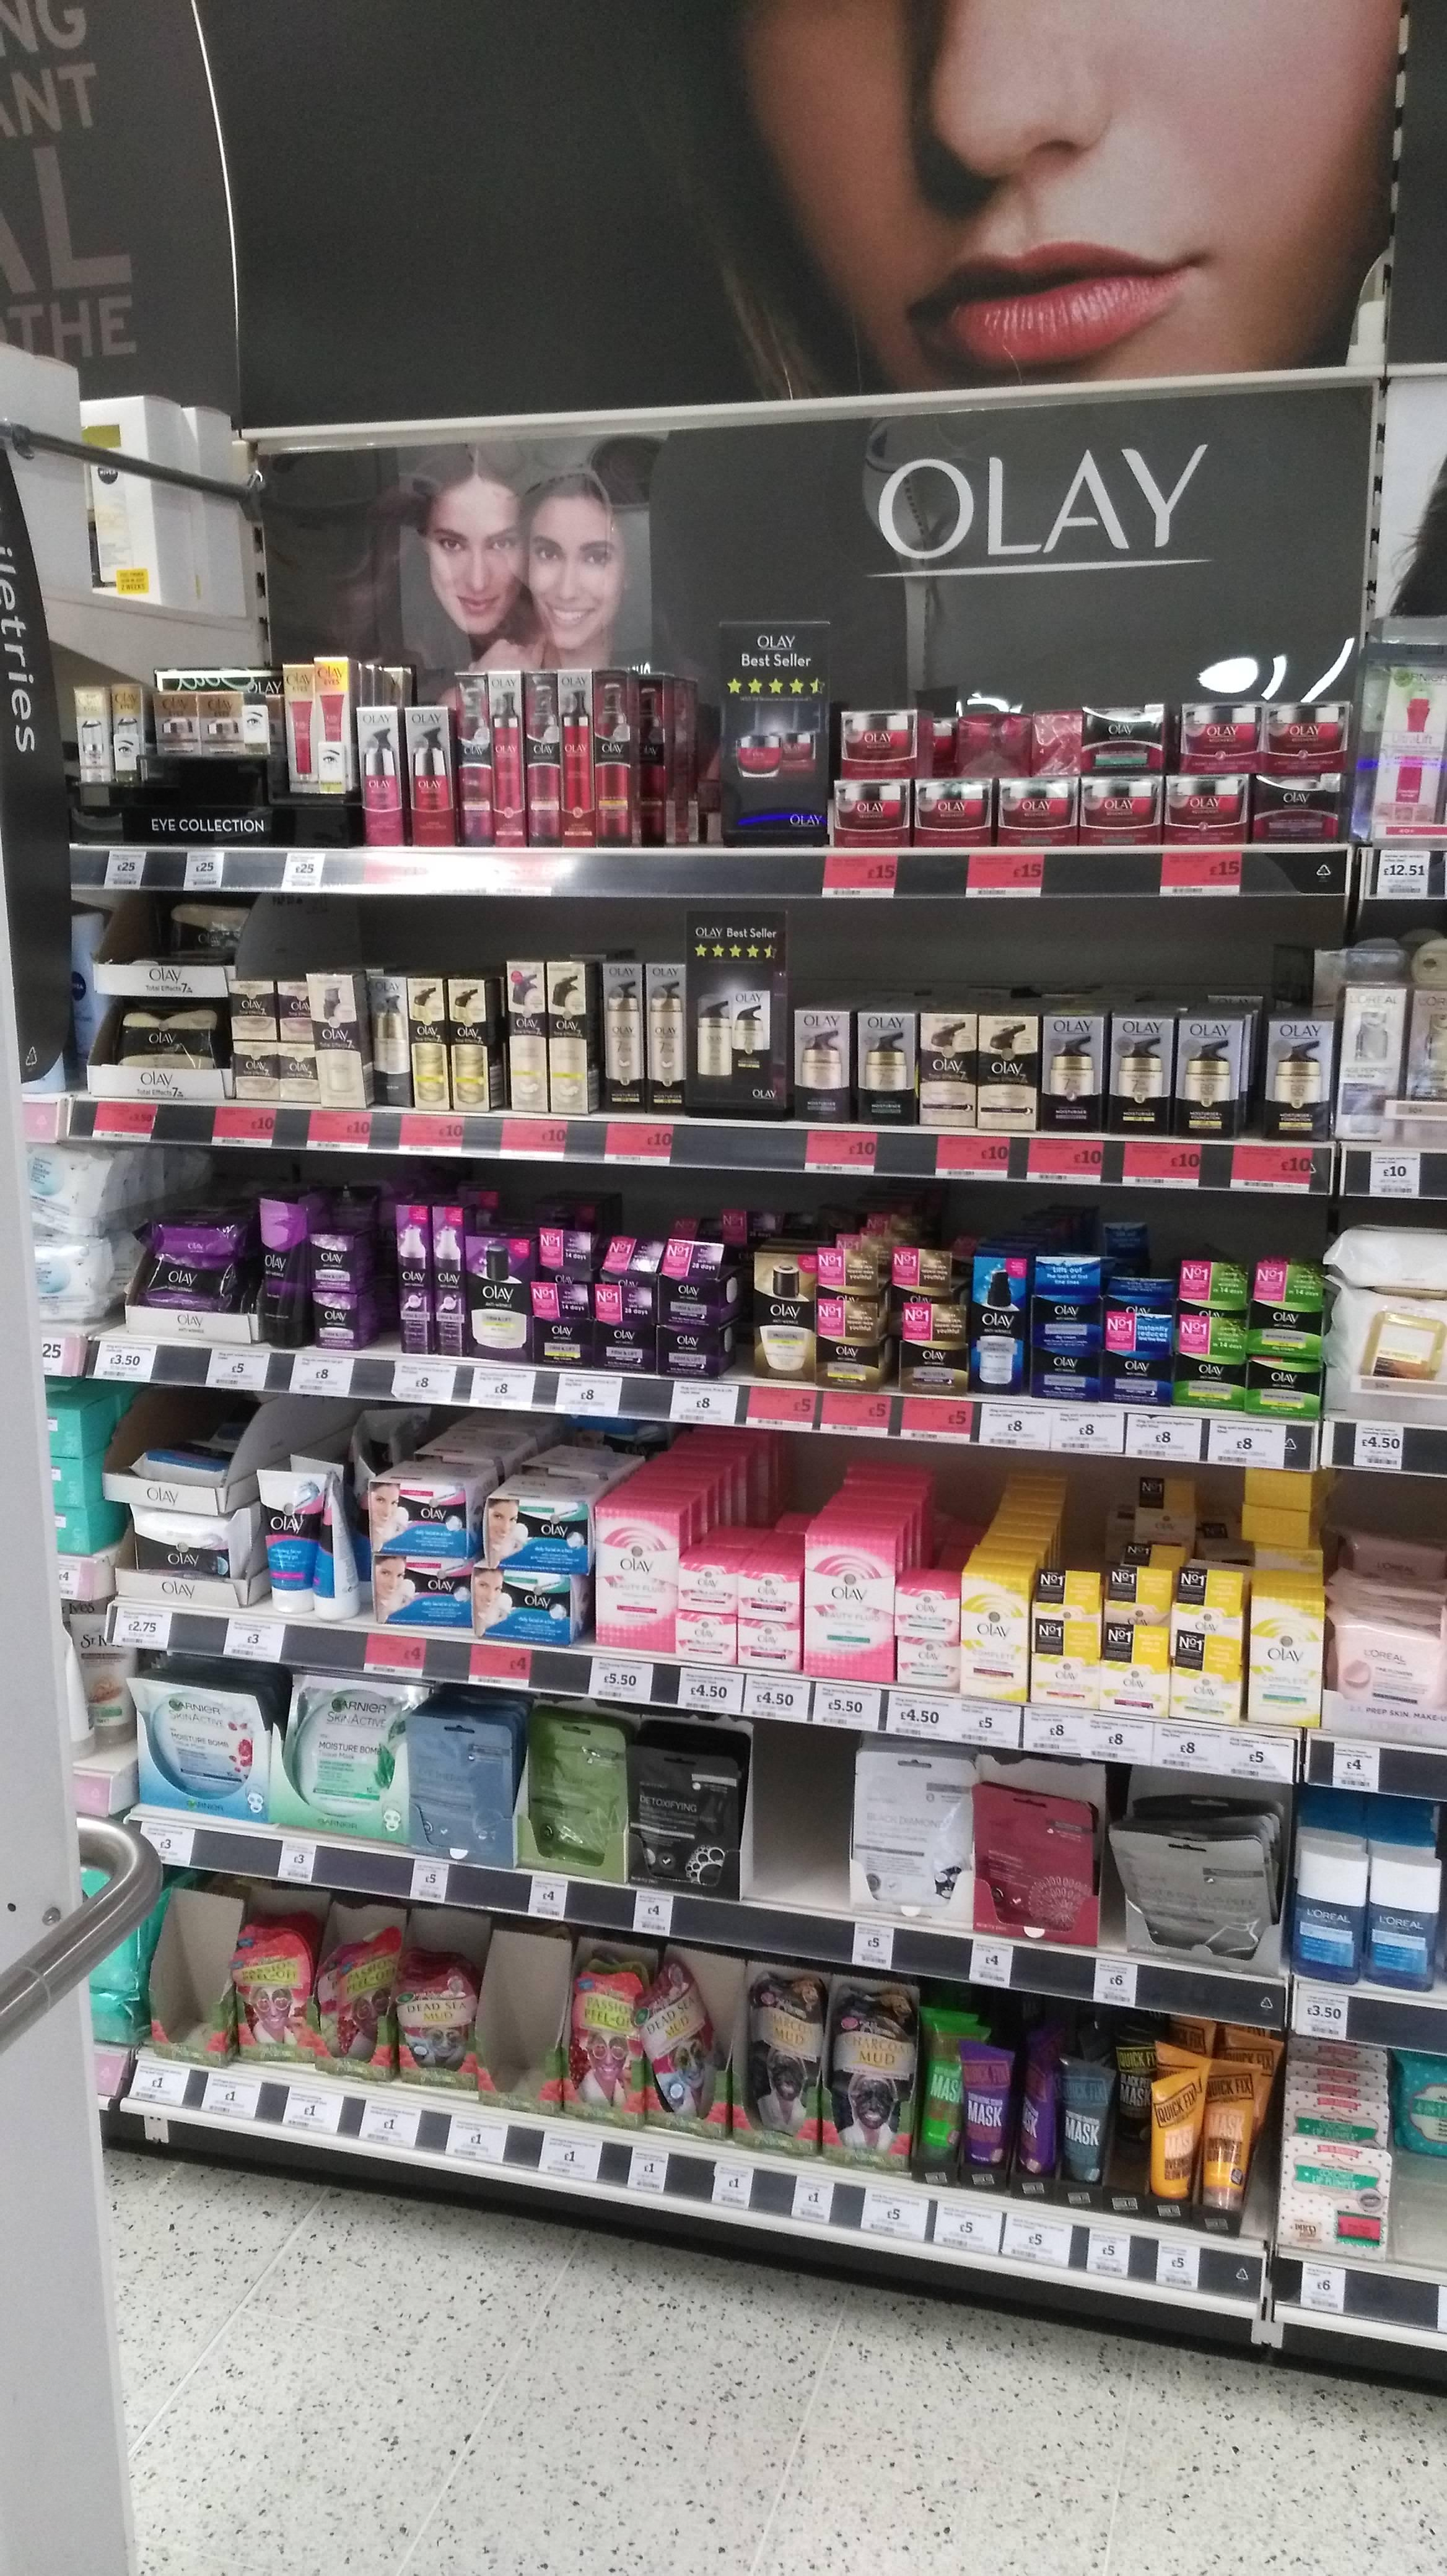empty: (762, 1721, 854, 1909)
